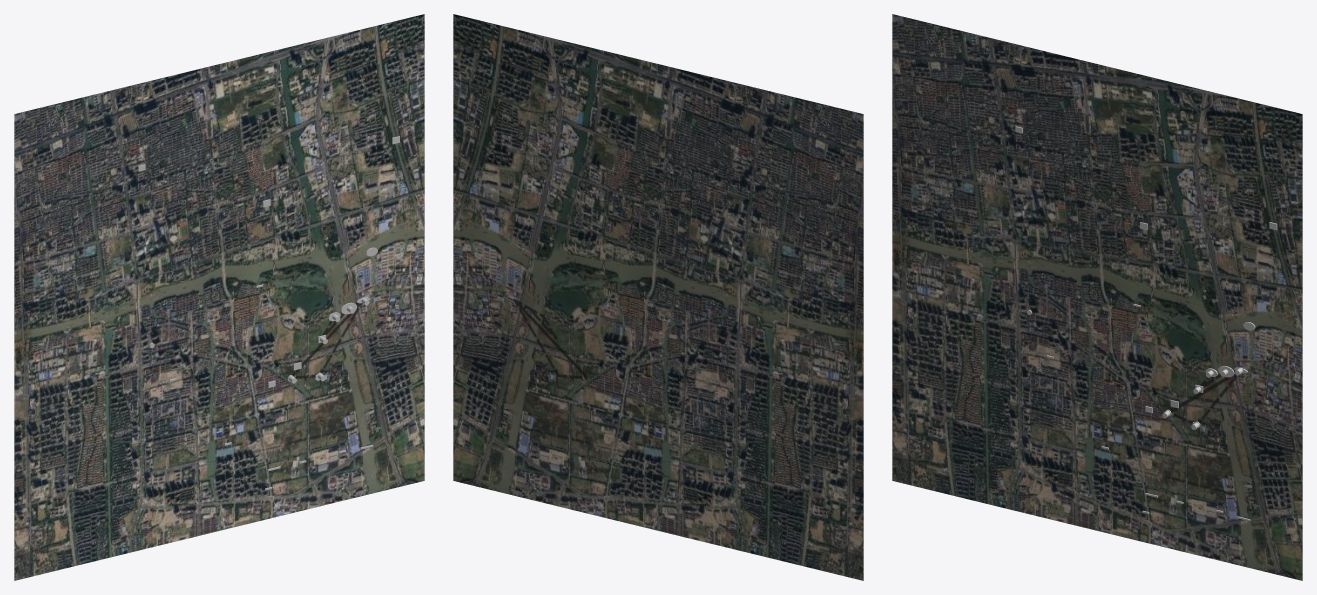
3 views of the same model, side by side, from view 1: azimuth 30°, elevation 25°; view 2: azimuth 150°, elevation 25°; view 3: azimuth 330°, elevation 25° (orthographic).
Parts seen in each view (by area): view 1: Terrain_Flat_tile, 3D_地名块体_面_0/0/0_CHUNK_MESH_mesh_geometry; view 2: Terrain_Flat_tile; view 3: Terrain_Flat_tile, 3D_地名块体_面_0/0/0_CHUNK_MESH_mesh_geometry.
Boxes of the visible parts, x1,y1,x2,y2 form: Terrain_Flat_tile: (14,14,424,580); 3D_地名块体_面_0/0/0_CHUNK_MESH_mesh_geometry: (138,136,399,490); Terrain_Flat_tile: (453,14,863,580); Terrain_Flat_tile: (892,14,1302,580); 3D_地名块体_面_0/0/0_CHUNK_MESH_mesh_geometry: (1015,126,1277,521).
Size of the model in its own units: 0.9201 by 1 by 0.0151.
1 material, 1 textured.
